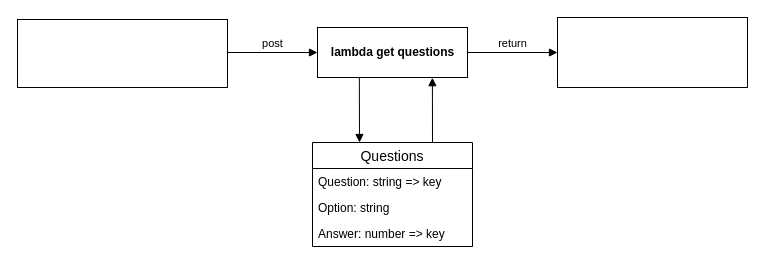
Image size: 765x267. Some labels were removed from this diagram. The shapes that lost their labels are listed below. From the top down, each one's box as (x1, y1, x2, y2) in pixels, then its label:
(16, 18, 228, 88): { "number": "<number_of_question>" }
(556, 16, 748, 88): { "statusCode": 200 "body": "<array_of_question>" }
